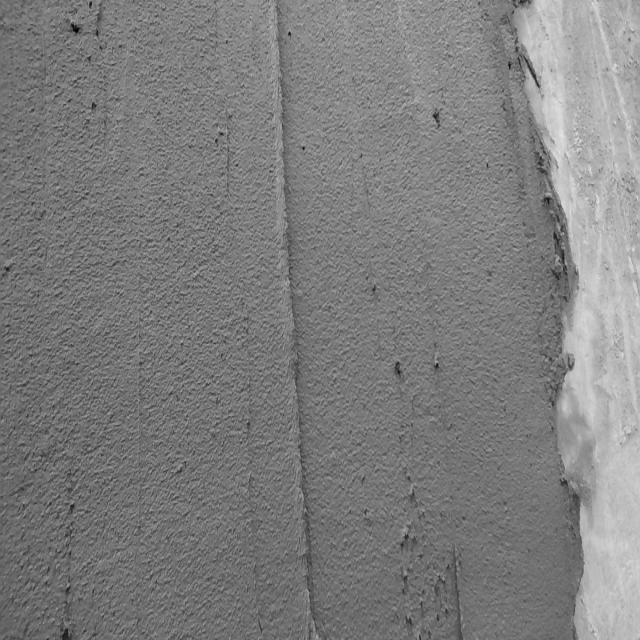trowels marks: (264, 2, 312, 640)
